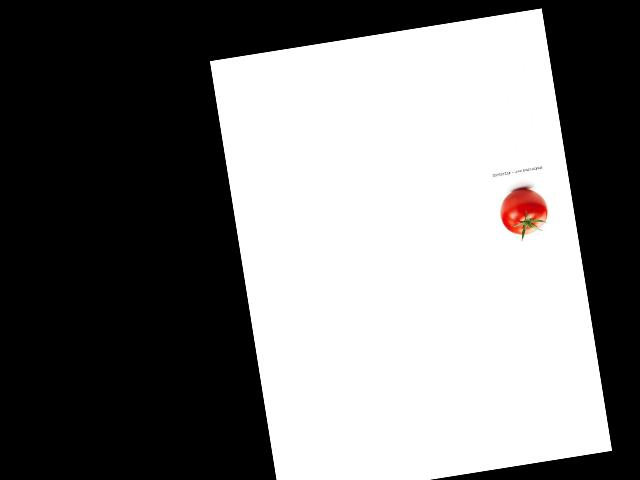tomato: (497, 185, 550, 237)
